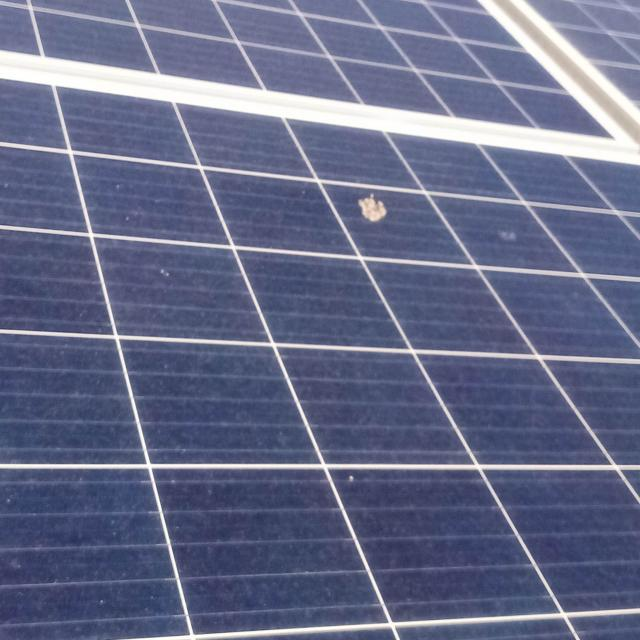faulty: (13, 94, 640, 640)
